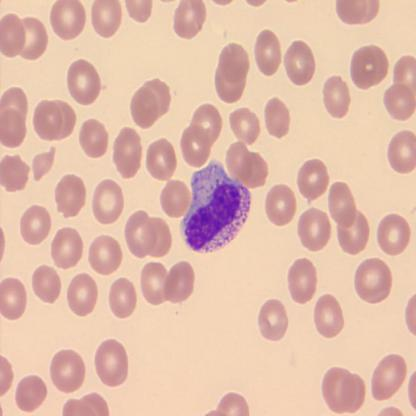Metamyelocyte: (177, 156, 253, 255)
